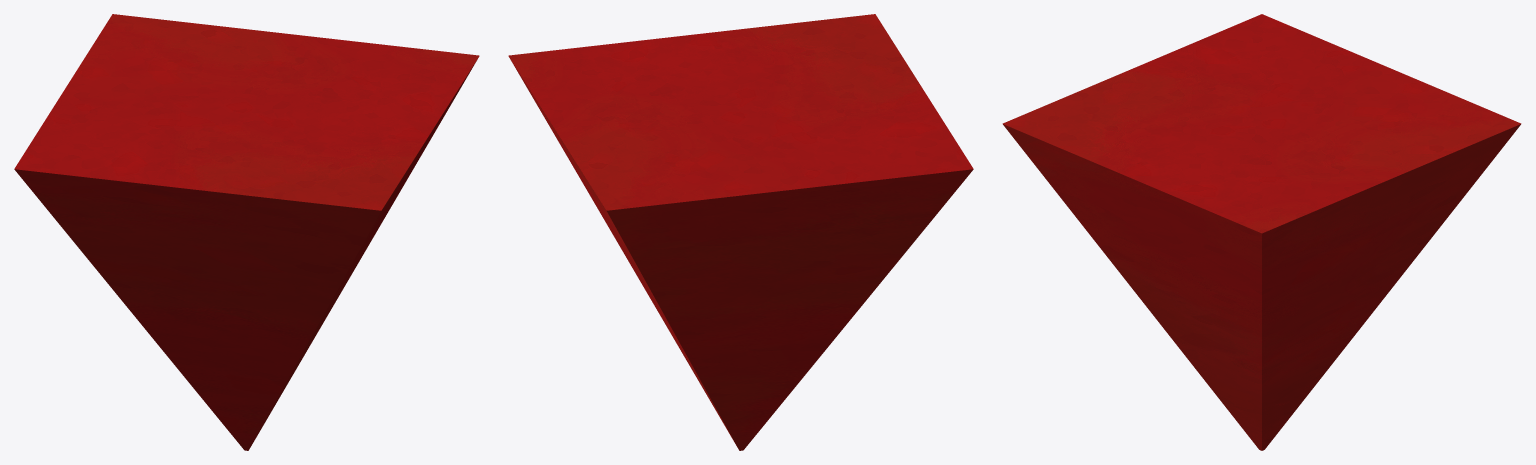
File: triangle-music-gem.glb
The picture shows the model from 3 angles, left to right: view 1: azimuth 30°, elevation 25°; view 2: azimuth 150°, elevation 25°; view 3: azimuth 270°, elevation 25°; orthographic projection. The views are drawn at different scales.
Visible parts, largest first — view 1: triangle-music-gem; view 2: triangle-music-gem; view 3: triangle-music-gem.
Boxes of the visible parts, x1=… form: triangle-music-gem: x1=14, y1=14, x2=479, y2=450; triangle-music-gem: x1=508, y1=14, x2=973, y2=450; triangle-music-gem: x1=1002, y1=14, x2=1521, y2=450.
Size of the model in its own units: 0.9577 by 0.6635 by 0.9577.
Materials: 1 (1 with a texture image).
